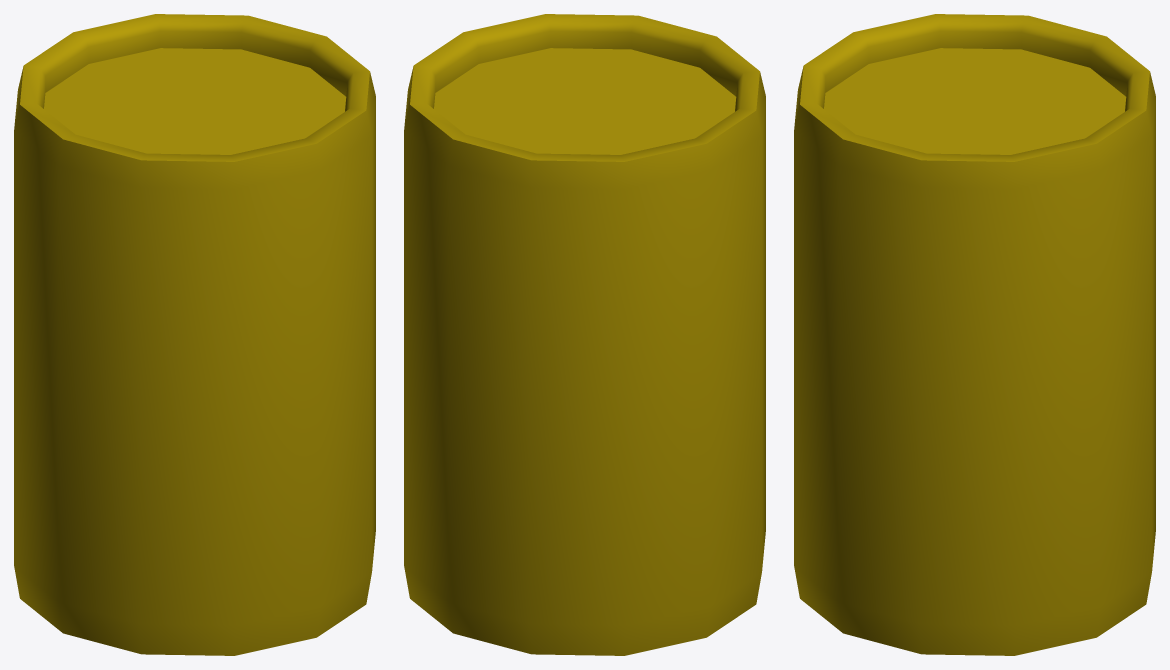
File: Tonel.fbx
3 renders of one model, left to right at view 1: azimuth 30°, elevation 25°; view 2: azimuth 150°, elevation 25°; view 3: azimuth 270°, elevation 25°, orthographic.
Visible parts, largest first — view 1: Tonel.001; view 2: Tonel.001; view 3: Tonel.001.
Part boxes in pixels (x1,y1,x2,y2): Tonel.001: [14, 14, 375, 655]; Tonel.001: [404, 14, 765, 655]; Tonel.001: [794, 14, 1155, 655].
Bounding box in the file's own units: 69.53 × 105 × 69.53.
